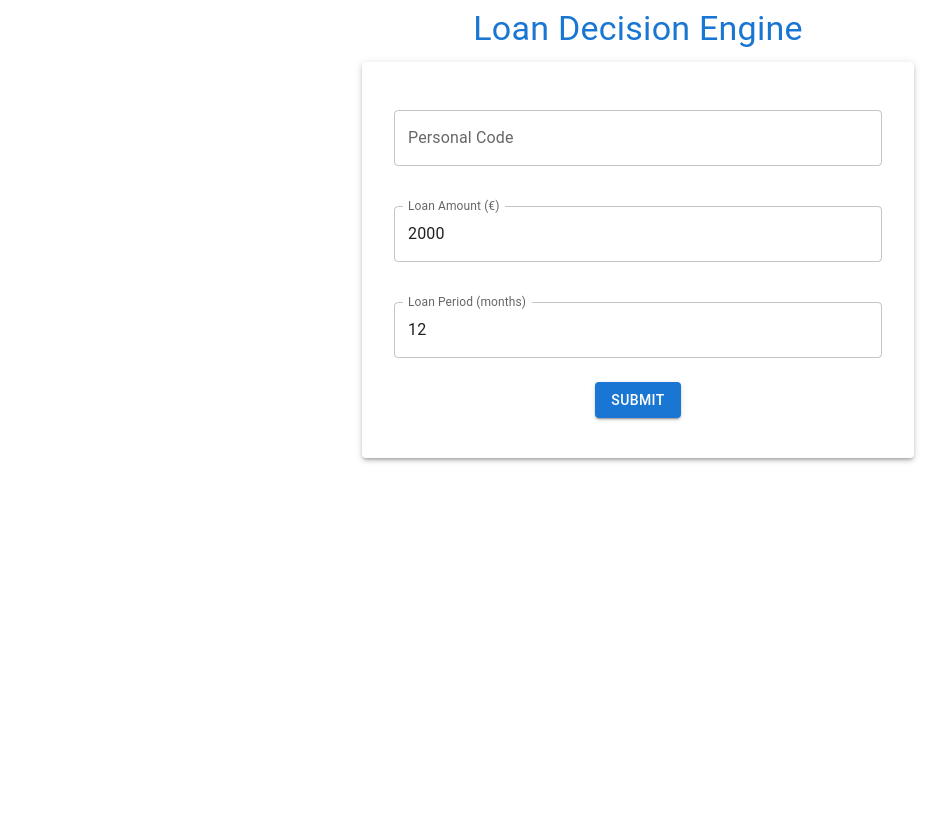
Test case: App Component › shows the snackbar after successful submission and allows closing
This screenshot has width=934, height=836.
In the field labelled "Personal Code": [638, 138] box x1=394 y1=110 x2=882 y2=166, type "49002010998"
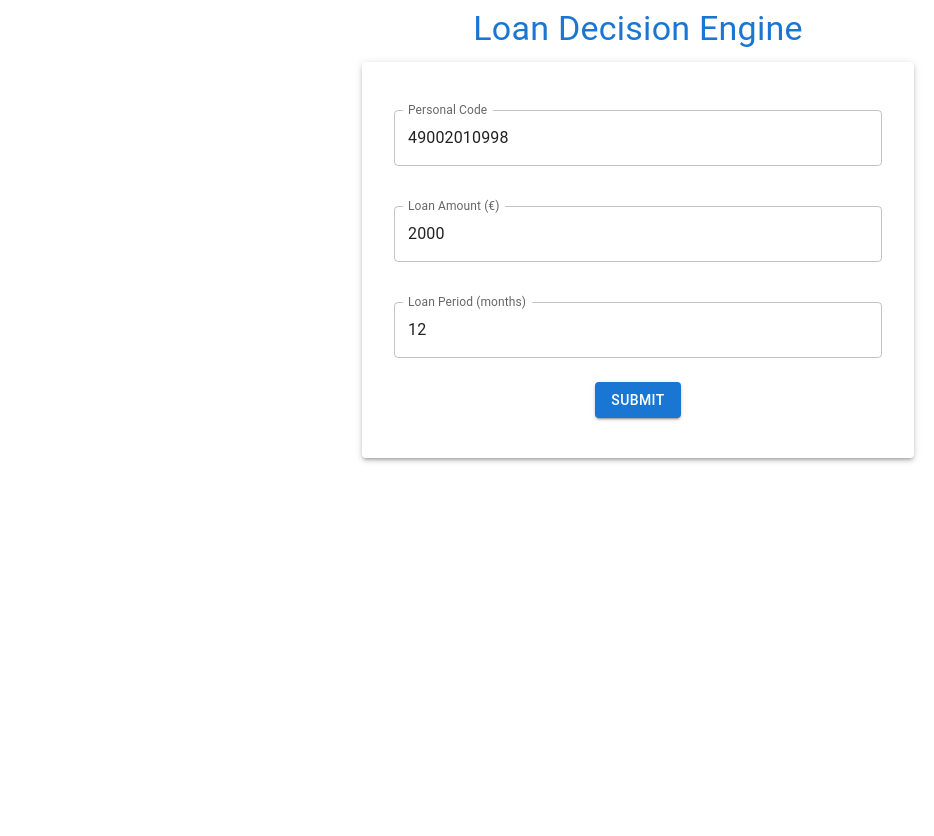
Replace the text in the number field labelled "Loan Amount (€)" with "5000": [638, 234] box x1=394 y1=206 x2=882 y2=262
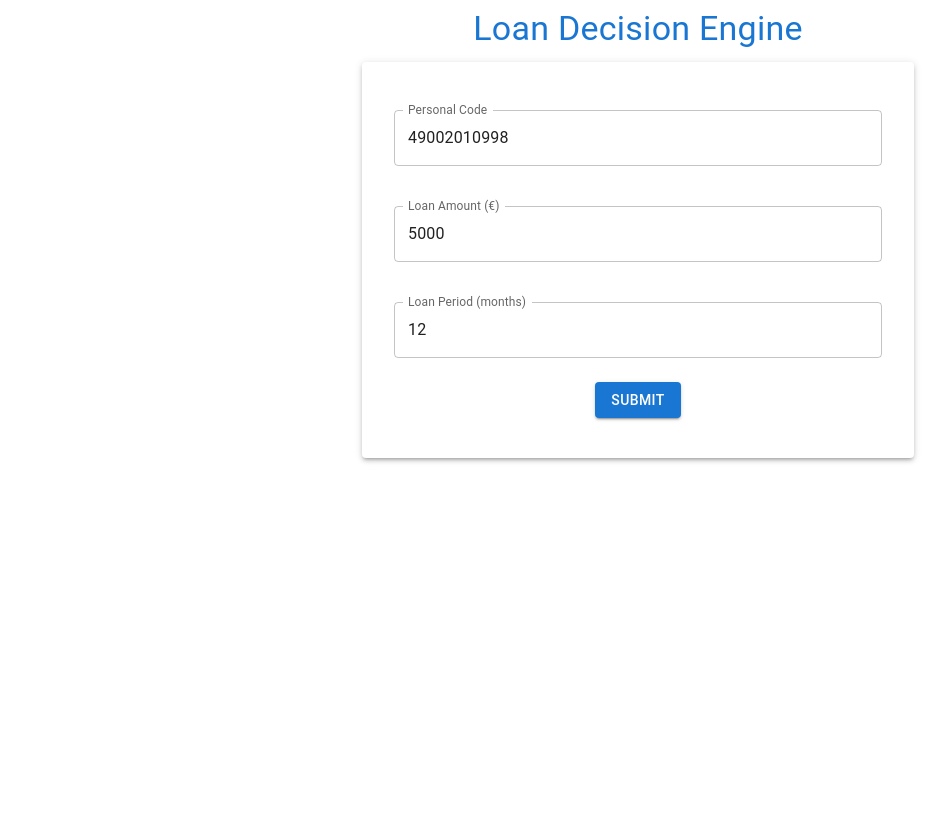
Replace the text in the number field labelled "Loan Period (months)" with "24": [638, 330] box x1=394 y1=302 x2=882 y2=358
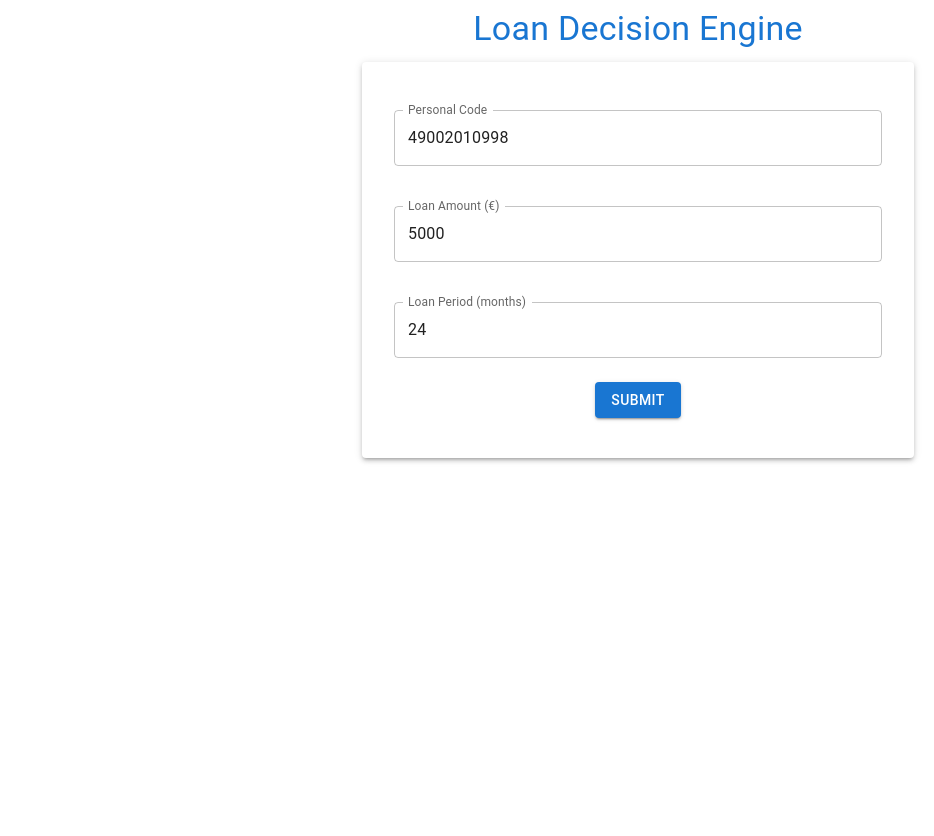
Click the button "Submit": [638, 400] box x1=595 y1=382 x2=681 y2=418
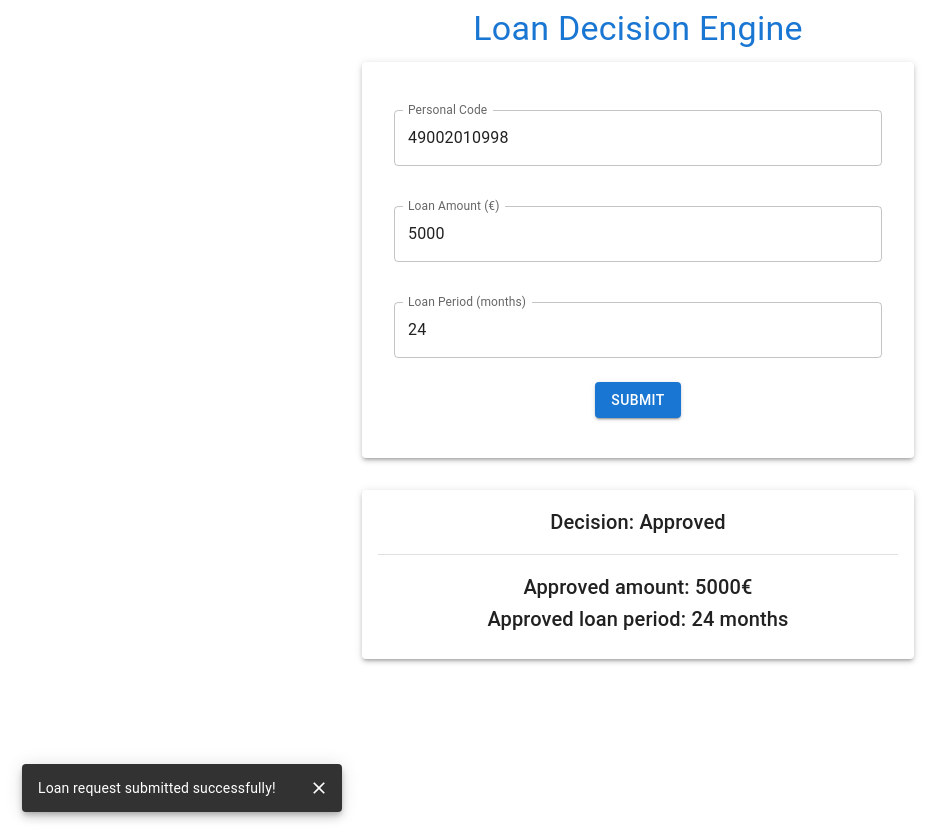
expect the text "Loan request submitted successfully!" is shown: met, box x1=38 y1=780 x2=276 y2=796
Click the button with test id "CloseIcon": [319, 788] box x1=304 y1=773 x2=334 y2=803
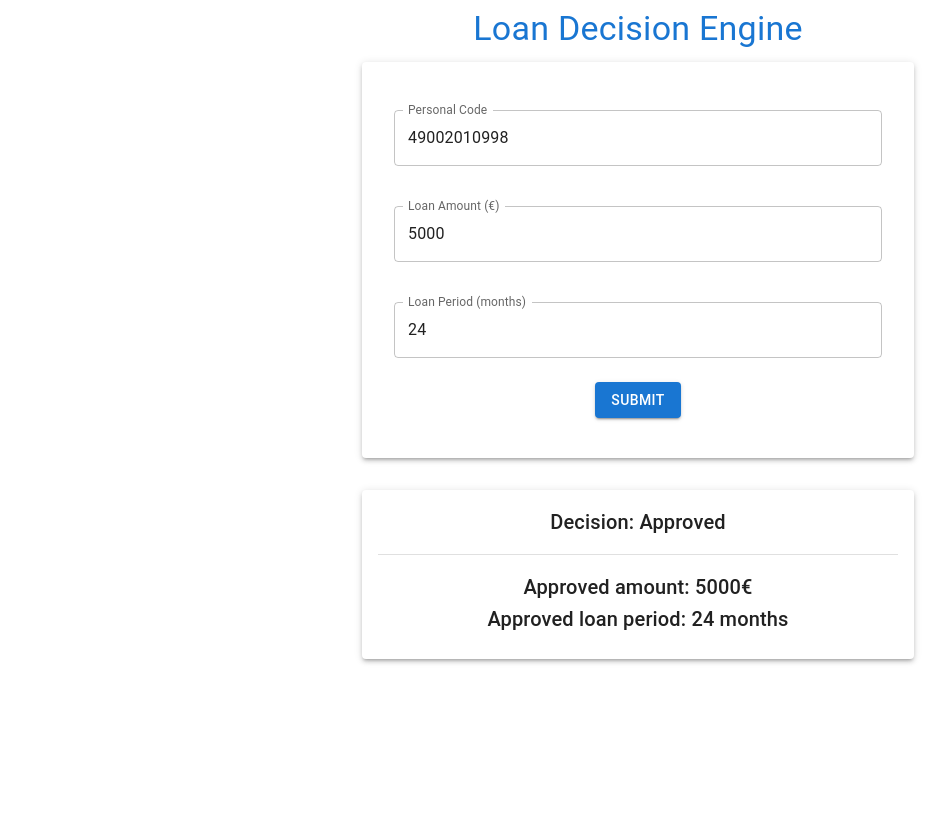
expect the text "Loan request submitted successfully!" is gone: met
